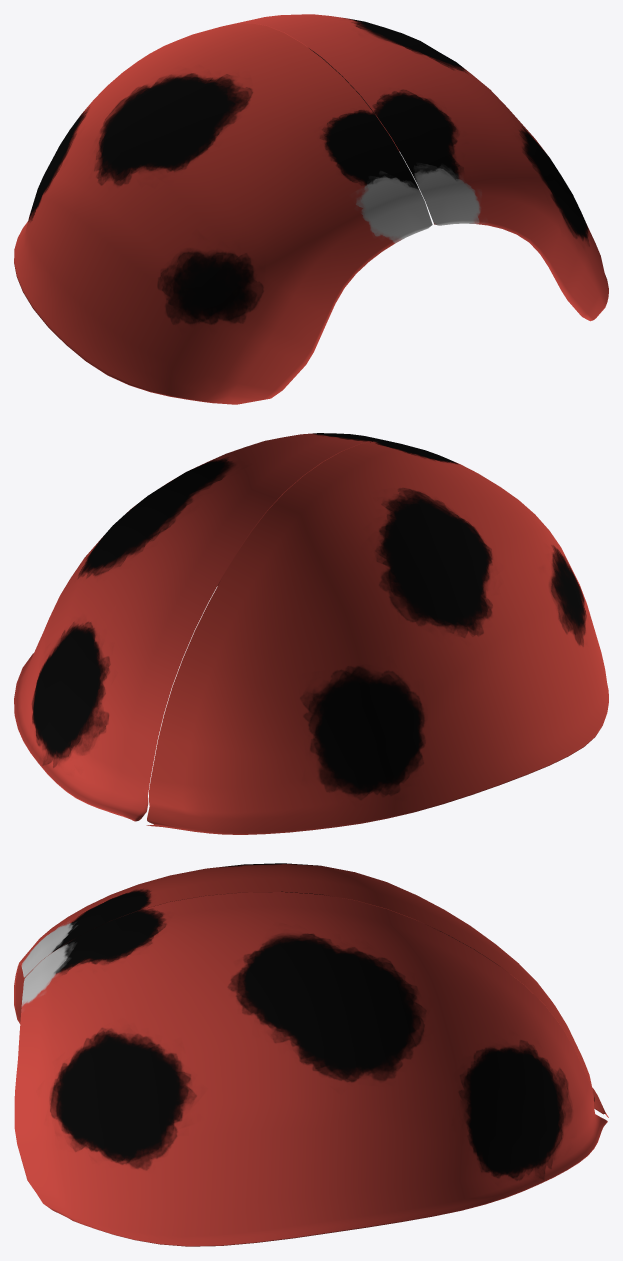
The model's file is ladybug_shell.obj.
The picture shows the model from 3 angles, top to bottom: view 1: azimuth 30°, elevation 25°; view 2: azimuth 150°, elevation 25°; view 3: azimuth 270°, elevation 25°; orthographic projection.
Visible parts, largest first — view 1: obj4, obj6; view 2: obj4, obj6; view 3: obj6, obj4.
Boxes of the visible parts, x1,y1,x2,y2 form: obj4: (14,23,432,404); obj6: (237,14,608,321); obj4: (146,441,608,834); obj6: (14,433,388,821); obj6: (14,892,607,1246); obj4: (14,863,608,1117).
Bounding box in the file's own units: 0.00343 × 0.00155 × 0.00352.
